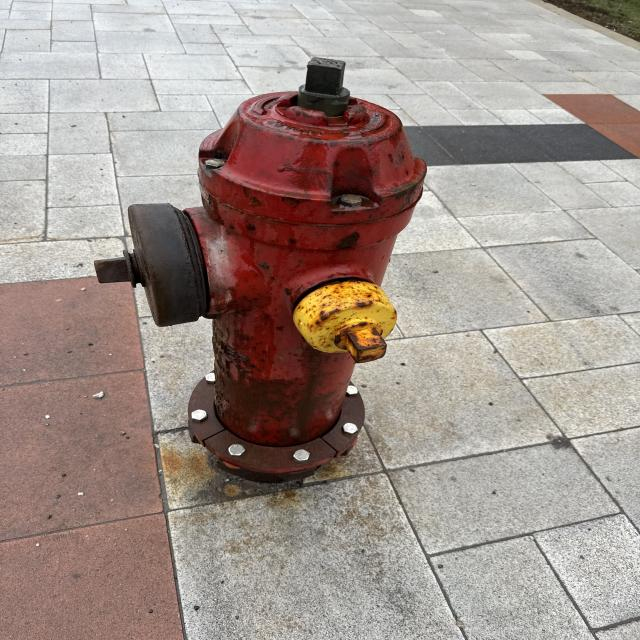Fire hydrant: (92, 57, 429, 466)
